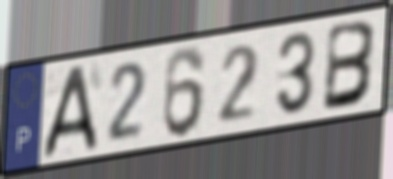2: (105, 59, 152, 147), (216, 40, 262, 127)
3: (272, 27, 318, 117)
6: (161, 43, 207, 141)
A: (39, 61, 101, 162)
B: (320, 17, 380, 115)
